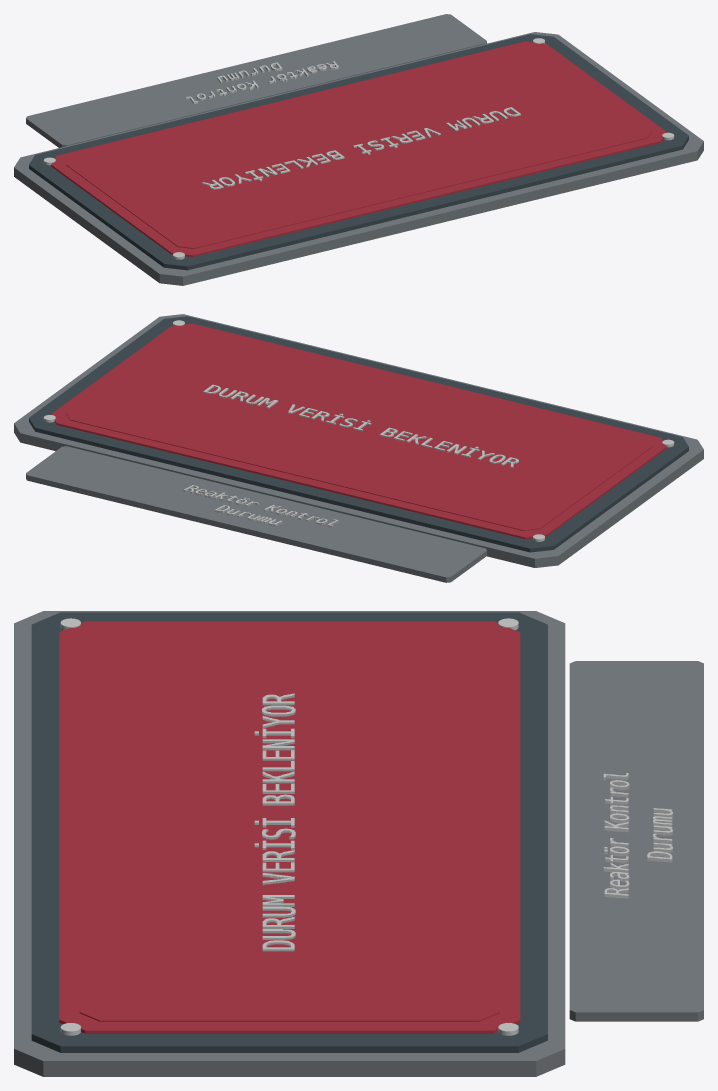
File: REAKTOR_KONTROL_DURUMU_10_REV2.glb
3 renders of one model, top to bottom at view 1: azimuth 30°, elevation 25°; view 2: azimuth 150°, elevation 25°; view 3: azimuth 270°, elevation 25°, orthographic. The views are drawn at different scales.
Visible parts, largest first — view 1: Dynamic_screen_face, Caption_plate, Screen_thin_frame, Outer_chassis, Screen_inset_glass, EXAMPLE_STATUS_TEXT_REPLACE_AT_RUNTIME, Control_status_reference_caption; view 2: Dynamic_screen_face, Caption_plate, Screen_thin_frame, Outer_chassis, Screen_inset_glass, EXAMPLE_STATUS_TEXT_REPLACE_AT_RUNTIME, Control_status_reference_caption; view 3: Dynamic_screen_face, Caption_plate, Screen_thin_frame, Outer_chassis, Screen_inset_glass, EXAMPLE_STATUS_TEXT_REPLACE_AT_RUNTIME, Control_status_reference_caption.
Boxes of the visible parts, x1,y1,x2,y2 form: Dynamic_screen_face: (66, 46, 651, 248); Caption_plate: (26, 14, 486, 147); Screen_thin_frame: (29, 34, 688, 270); Outer_chassis: (14, 32, 703, 285); Screen_inset_glass: (51, 41, 666, 256); EXAMPLE_STATUS_TEXT_REPLACE_AT_RUNTIME: (202, 107, 520, 189); Control_status_reference_caption: (186, 61, 338, 104); Dynamic_screen_face: (66, 329, 651, 530); Caption_plate: (26, 446, 486, 582); Screen_thin_frame: (29, 316, 688, 552); Outer_chassis: (14, 314, 703, 567); Screen_inset_glass: (51, 323, 666, 539); EXAMPLE_STATUS_TEXT_REPLACE_AT_RUNTIME: (203, 384, 518, 467); Control_status_reference_caption: (183, 485, 338, 527); Dynamic_screen_face: (79, 628, 499, 1021); Caption_plate: (569, 661, 703, 1021); Screen_thin_frame: (31, 612, 547, 1052); Outer_chassis: (14, 611, 565, 1076); Screen_inset_glass: (59, 621, 520, 1033); EXAMPLE_STATUS_TEXT_REPLACE_AT_RUNTIME: (254, 693, 295, 951); Control_status_reference_caption: (603, 772, 672, 898).
Size of the model in its own units: 3.65 by 0.114 by 2.36.
